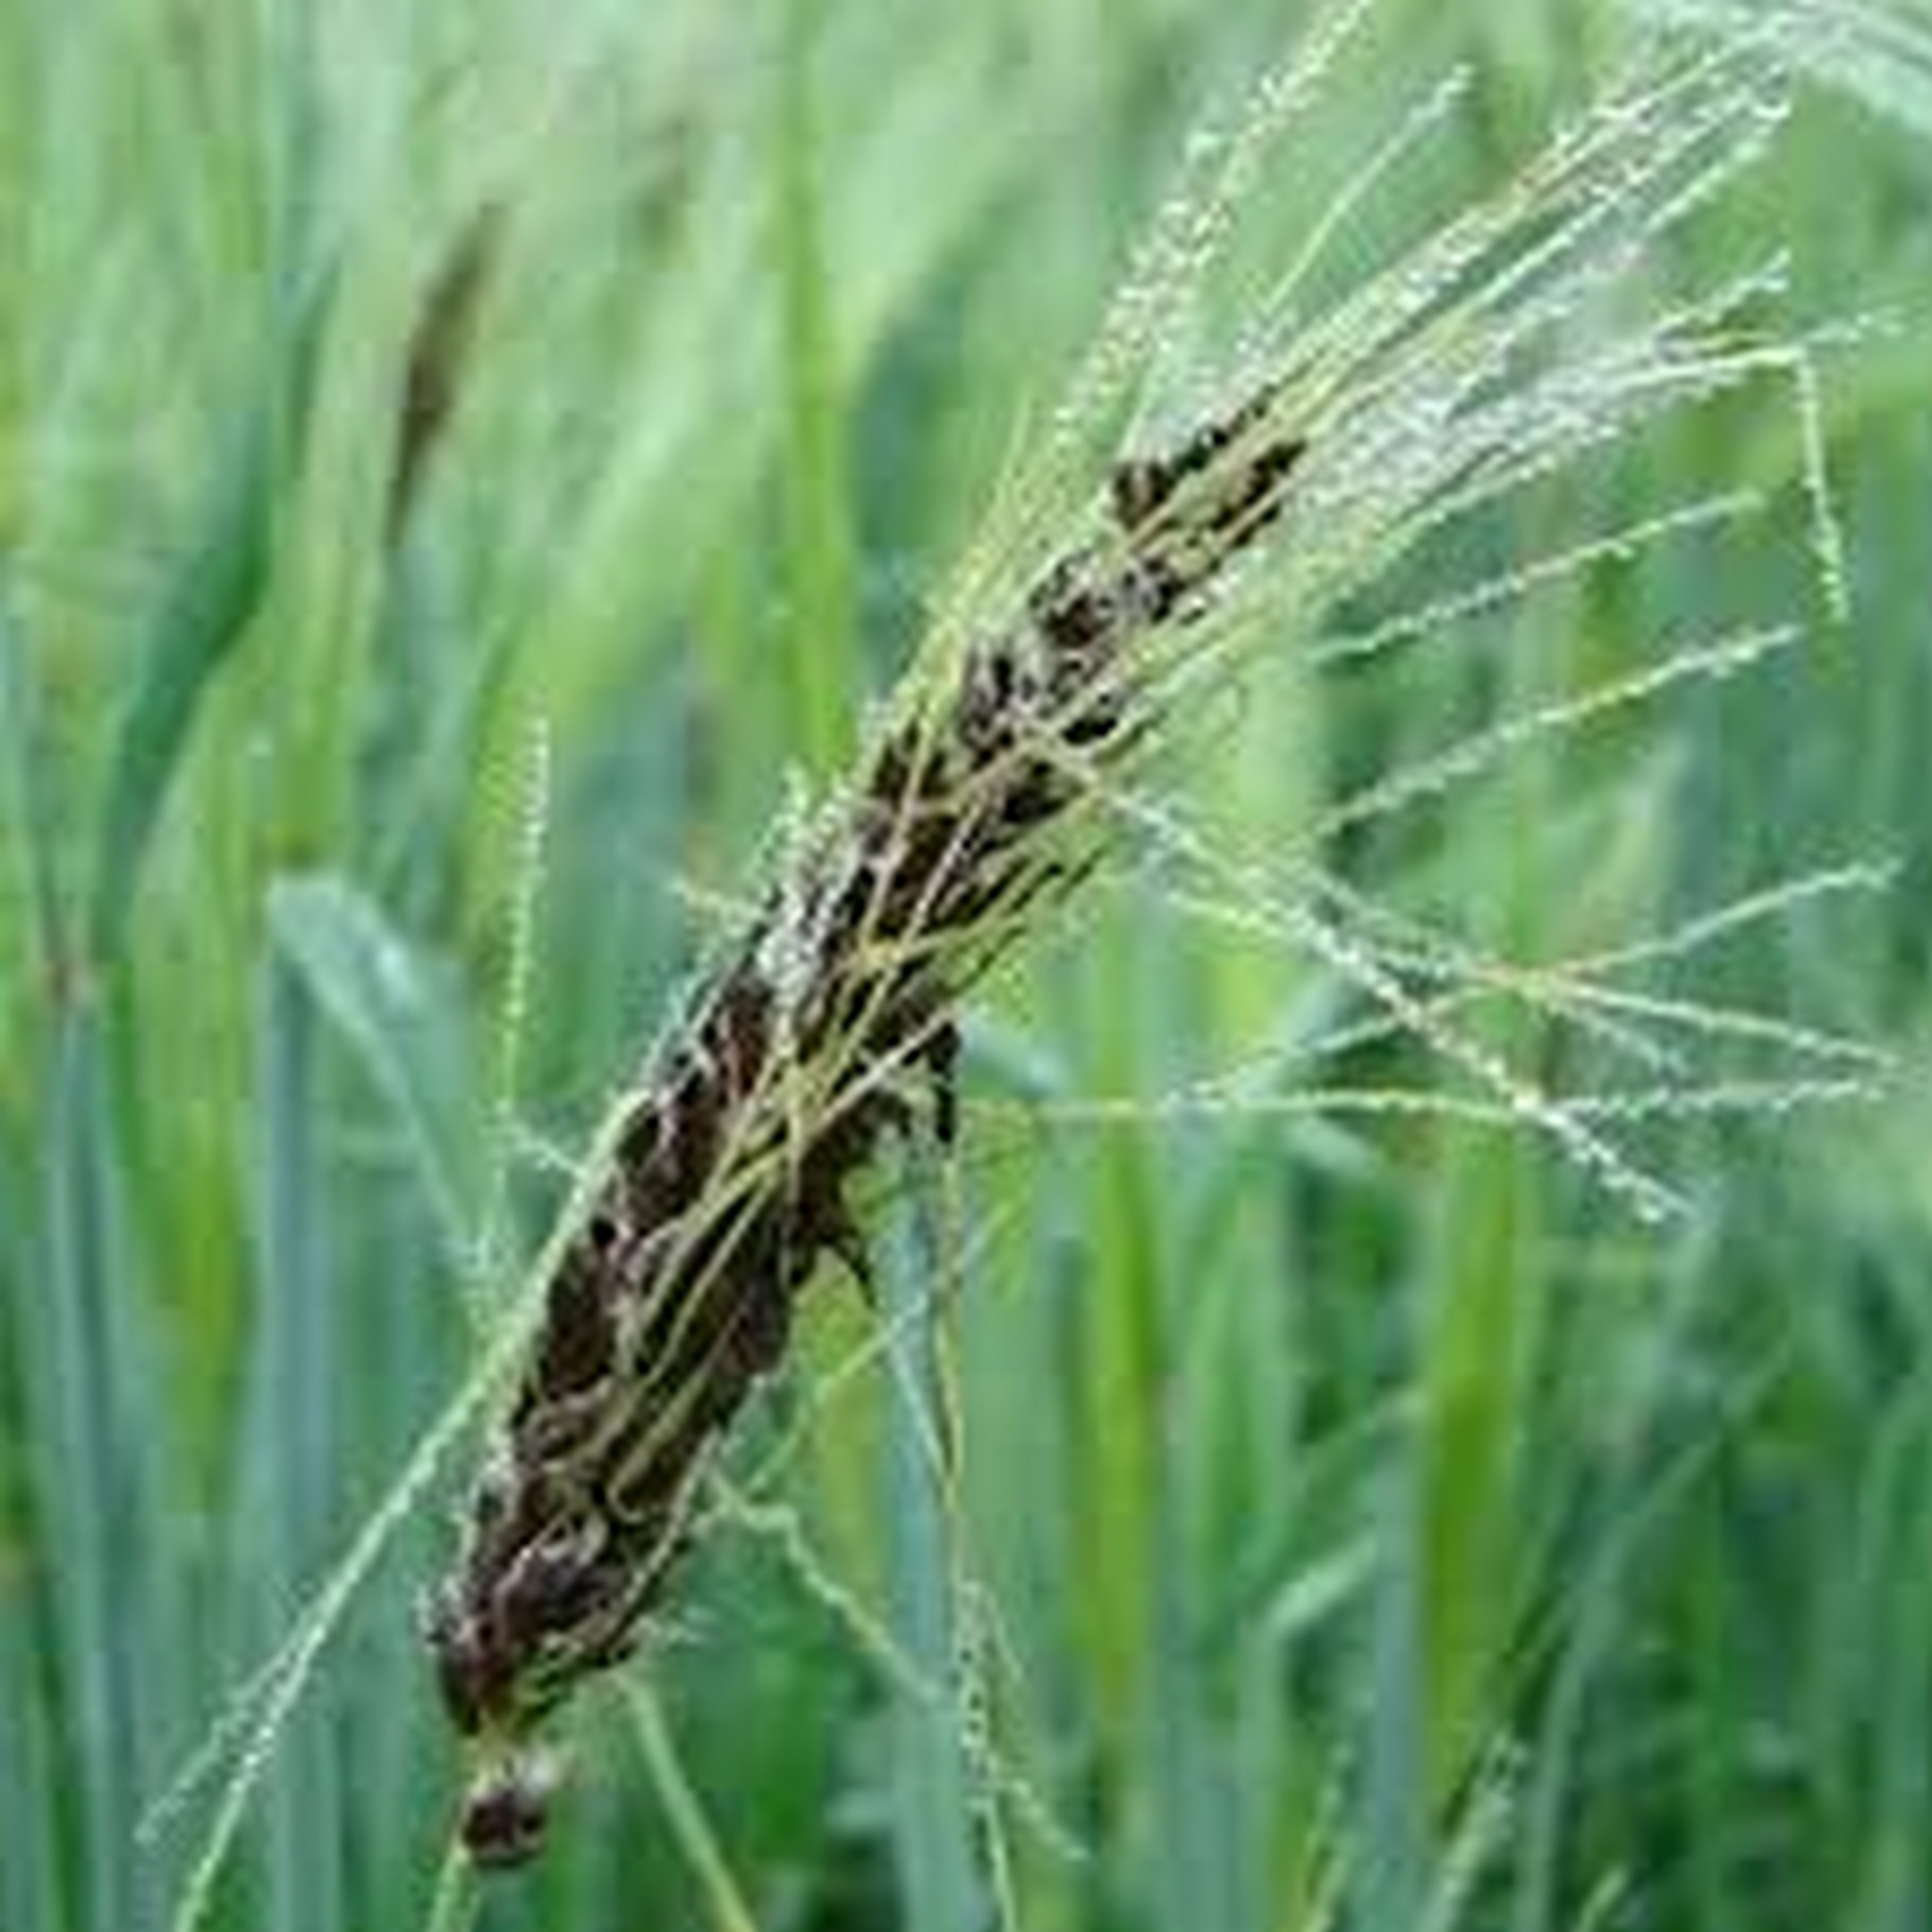Wheat Loose Smut: (456, 400, 1297, 1736)
